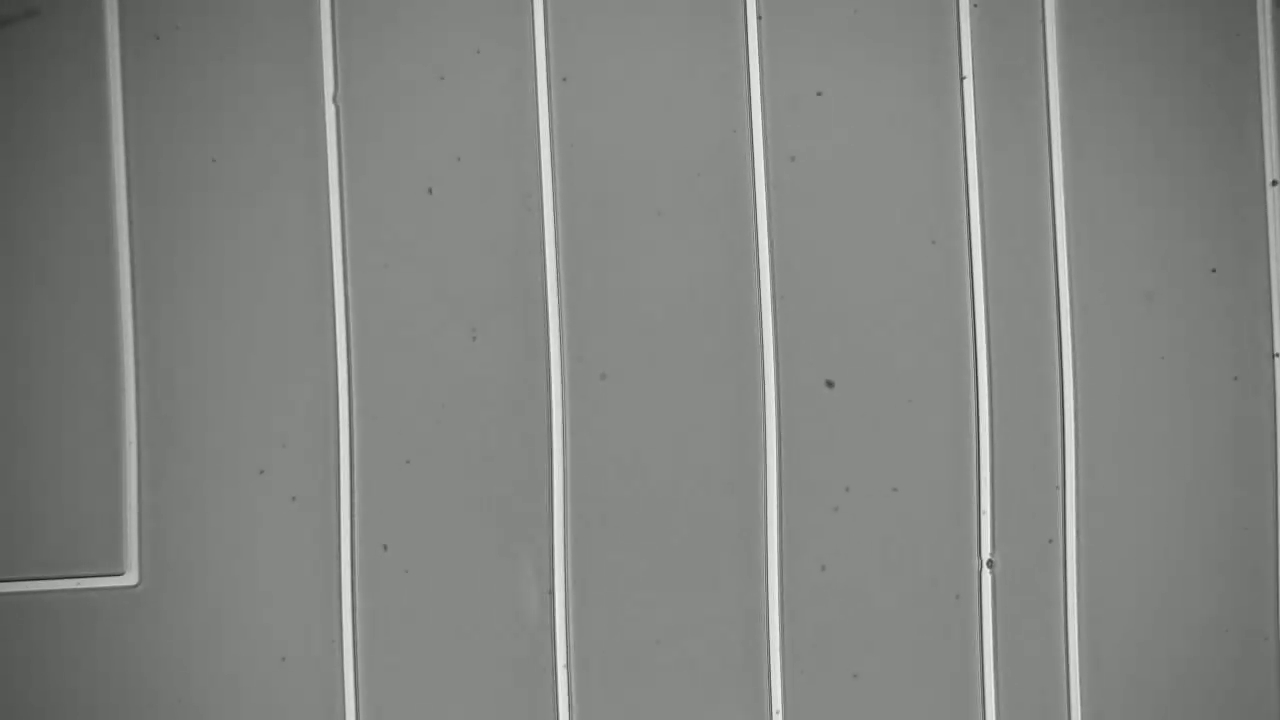stains_enbedded: (975, 551, 1002, 578)
